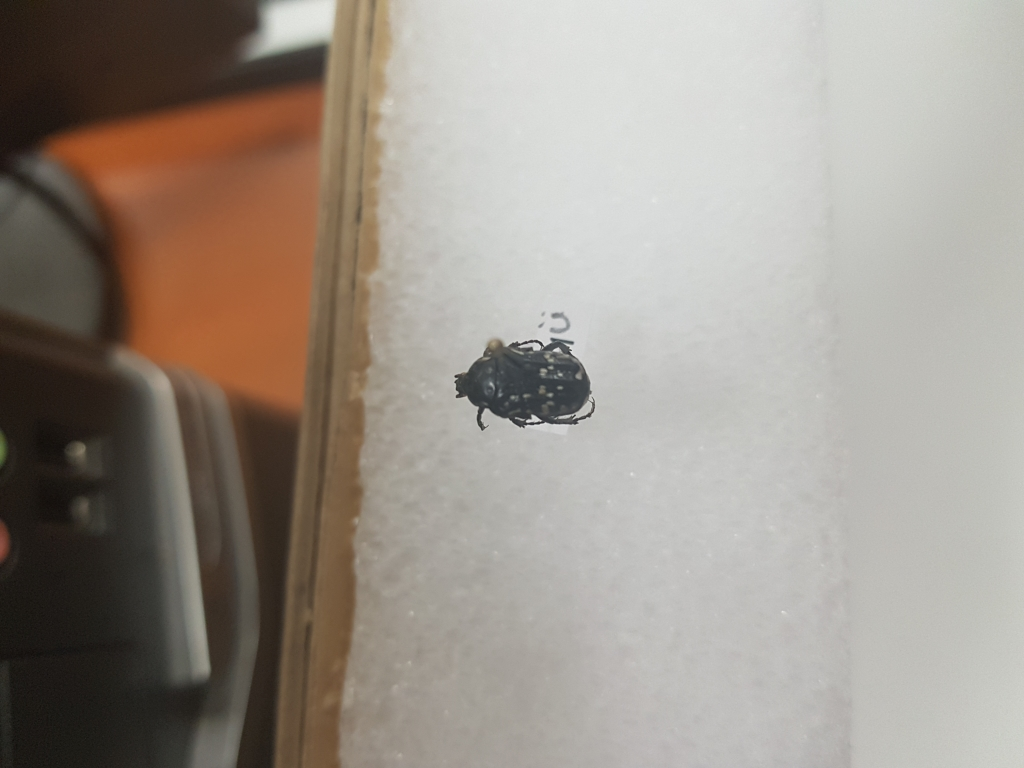Oxythyrea_albopicta: (433, 337, 598, 441)
